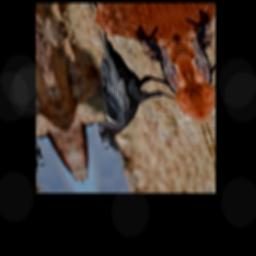Crow: (65, 15, 188, 153)
